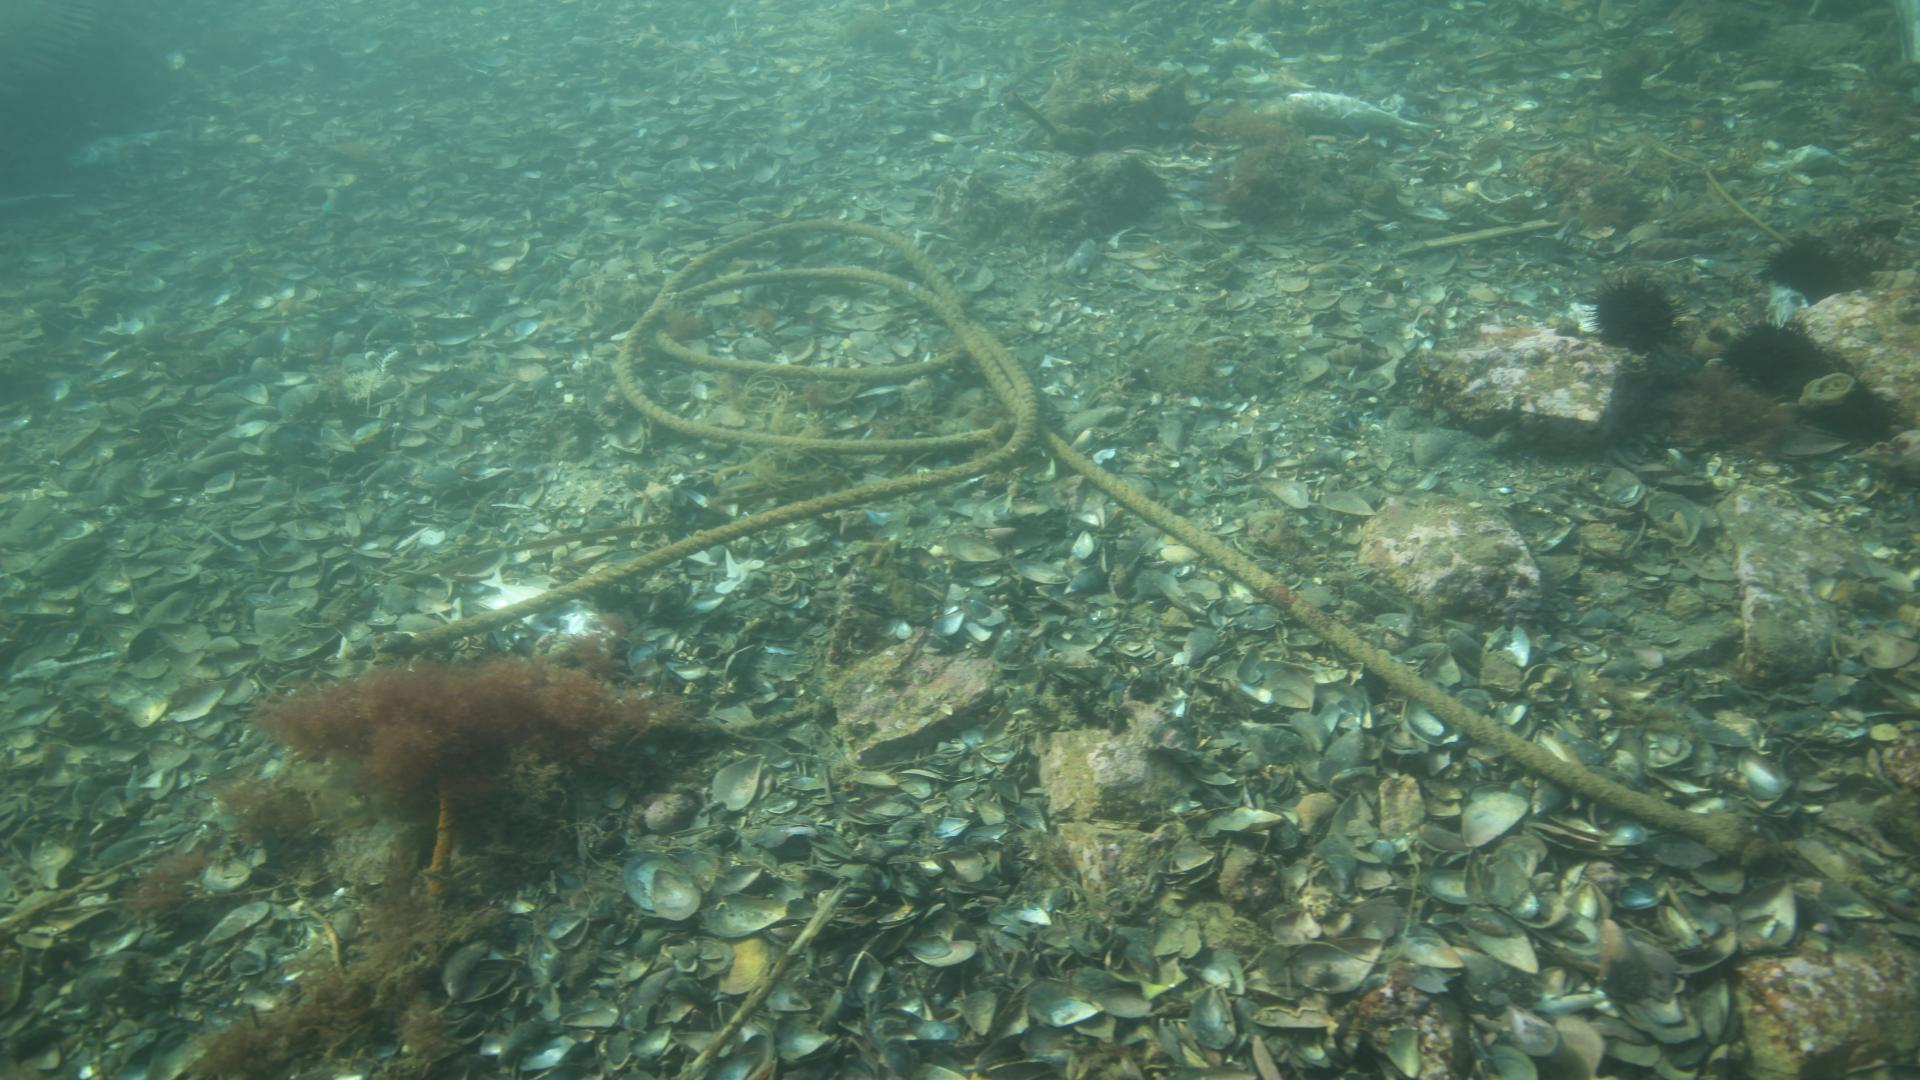bundle of ropes: (413, 214, 1731, 862)
